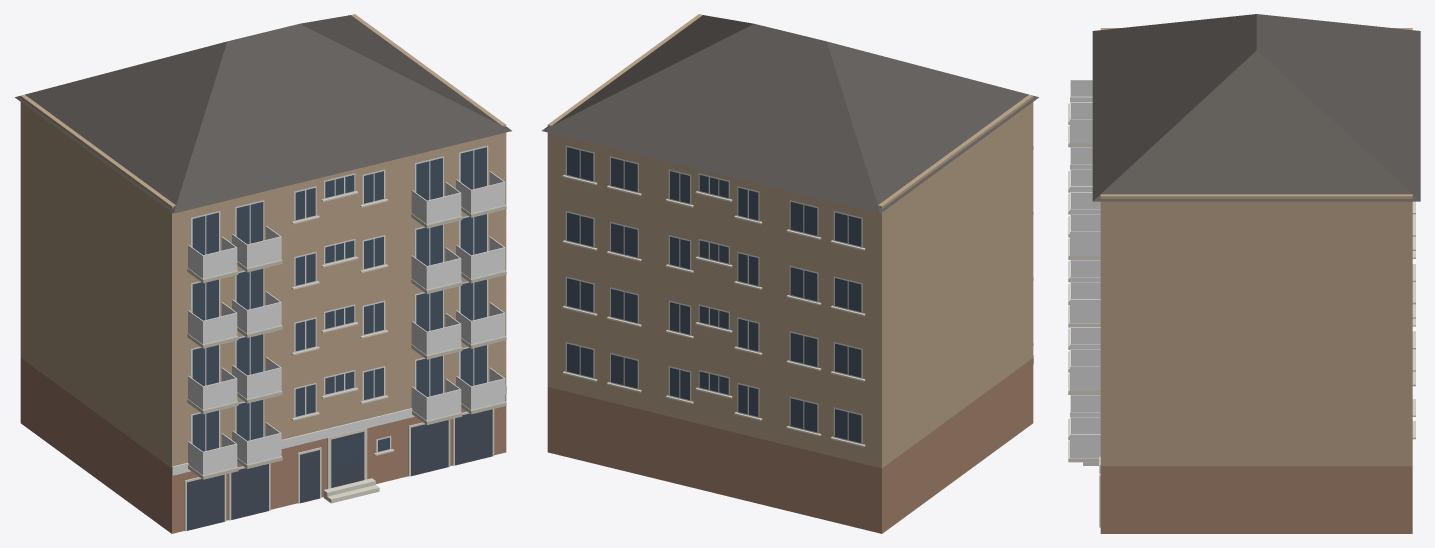
The model's file is nw-garage-pair-balcony-5st__buff-white__5__hip__long__solid.glb.
The picture shows the model from 3 angles, left to right: view 1: azimuth 30°, elevation 25°; view 2: azimuth 150°, elevation 25°; view 3: azimuth 270°, elevation 25°; orthographic projection. The views are drawn at different scales.
Parts seen in each view (by area): view 1: nw-garage-pair-balcony-5st__buff-white__5__hip__long__solid; view 2: nw-garage-pair-balcony-5st__buff-white__5__hip__long__solid; view 3: nw-garage-pair-balcony-5st__buff-white__5__hip__long__solid.
Part boxes in pixels (left/top/right/bottom): nw-garage-pair-balcony-5st__buff-white__5__hip__long__solid: left=15, top=14, right=511, bottom=533; nw-garage-pair-balcony-5st__buff-white__5__hip__long__solid: left=542, top=14, right=1038, bottom=533; nw-garage-pair-balcony-5st__buff-white__5__hip__long__solid: left=1068, top=14, right=1420, bottom=533.
Size of the model in its own units: 15.34 by 17.53 by 13.4.
